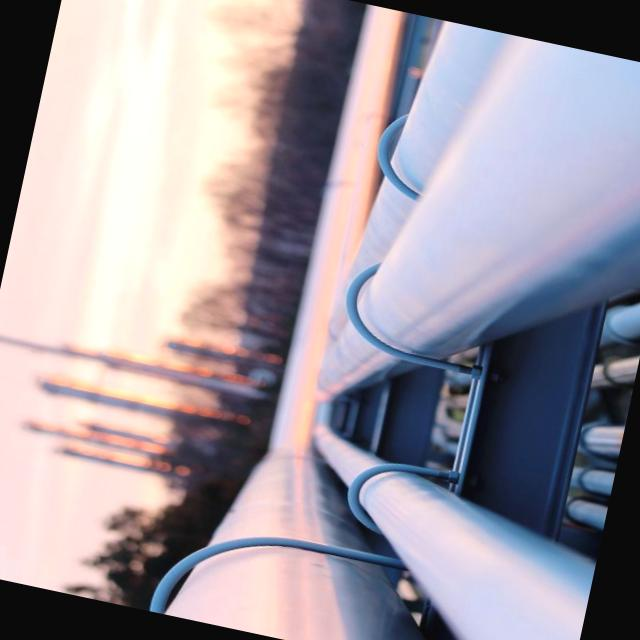gas: (168, 3, 435, 640), (317, 34, 640, 398), (311, 396, 595, 640), (327, 19, 508, 339)
